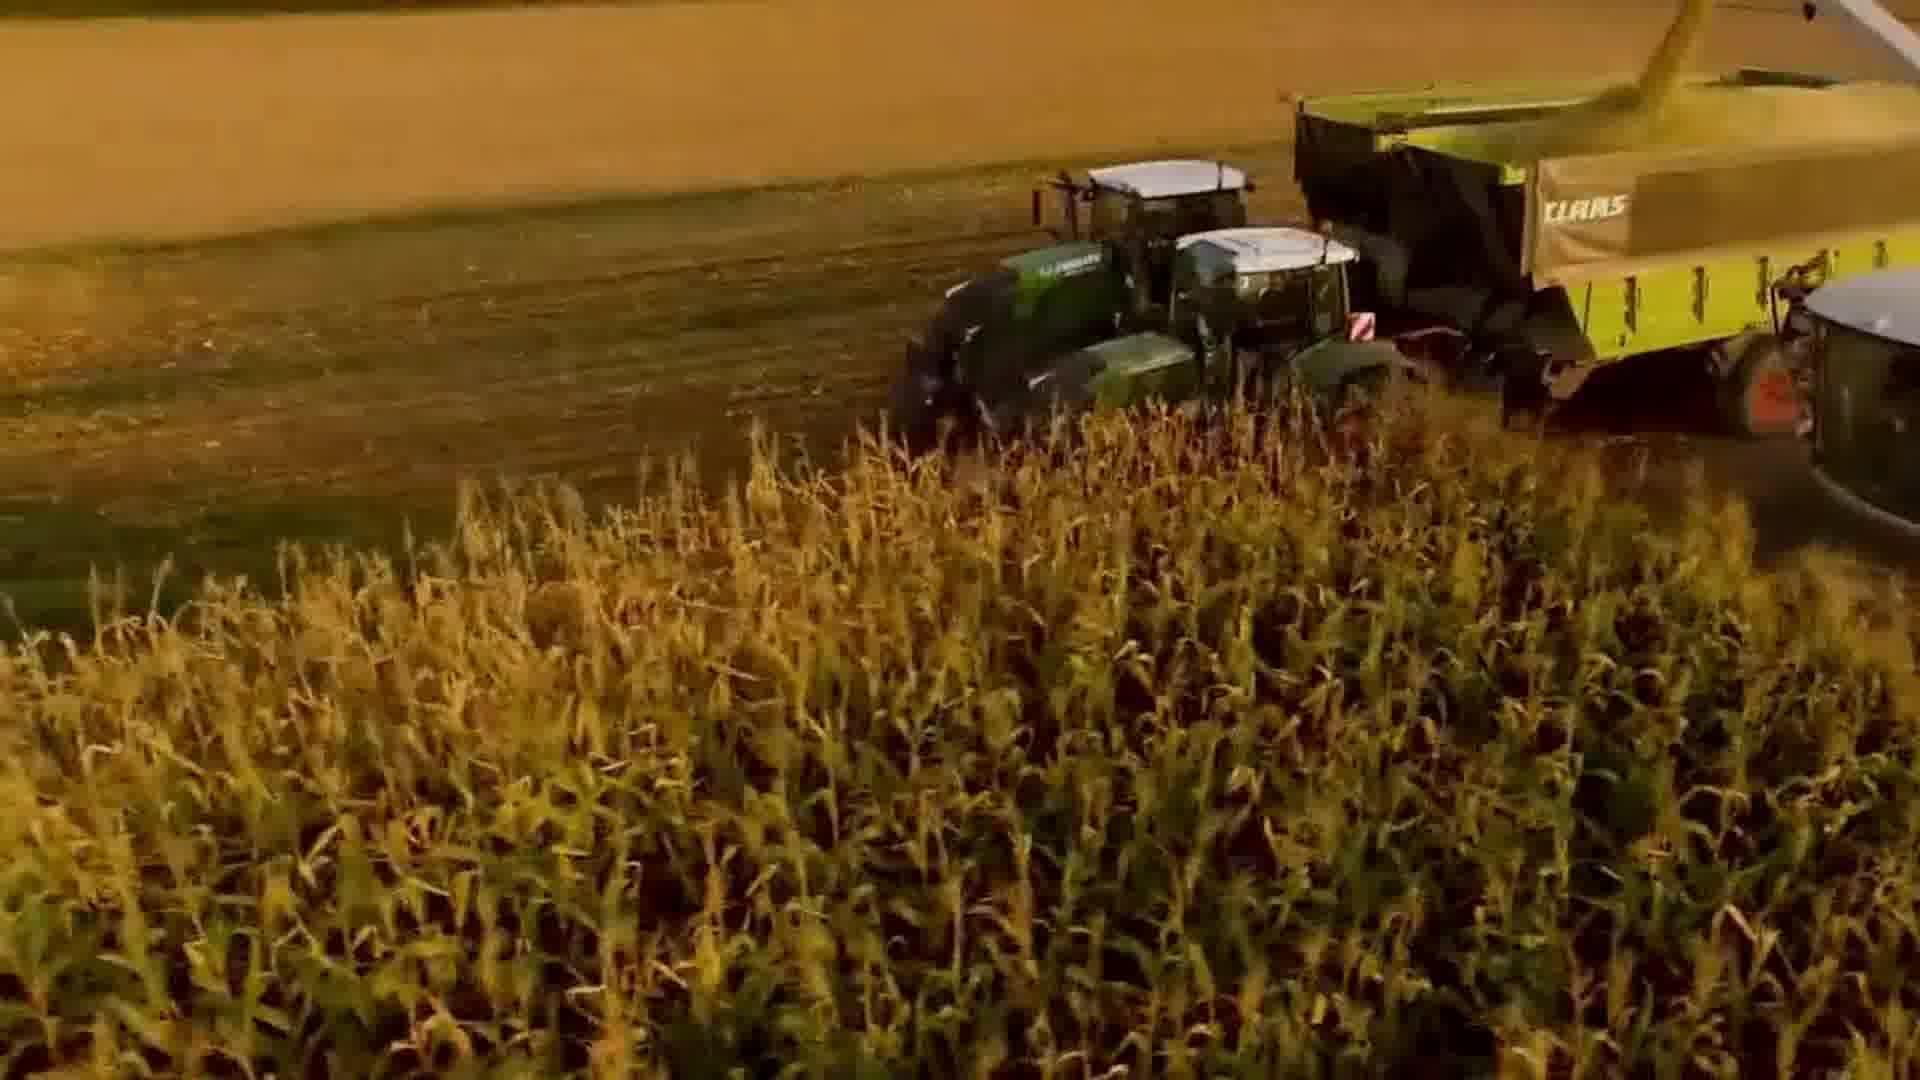combine harvester: (1755, 0, 1920, 647)
tractor: (876, 144, 1258, 477), (994, 219, 1441, 467)
trailer: (1378, 70, 1920, 430), (1279, 65, 1837, 222)
